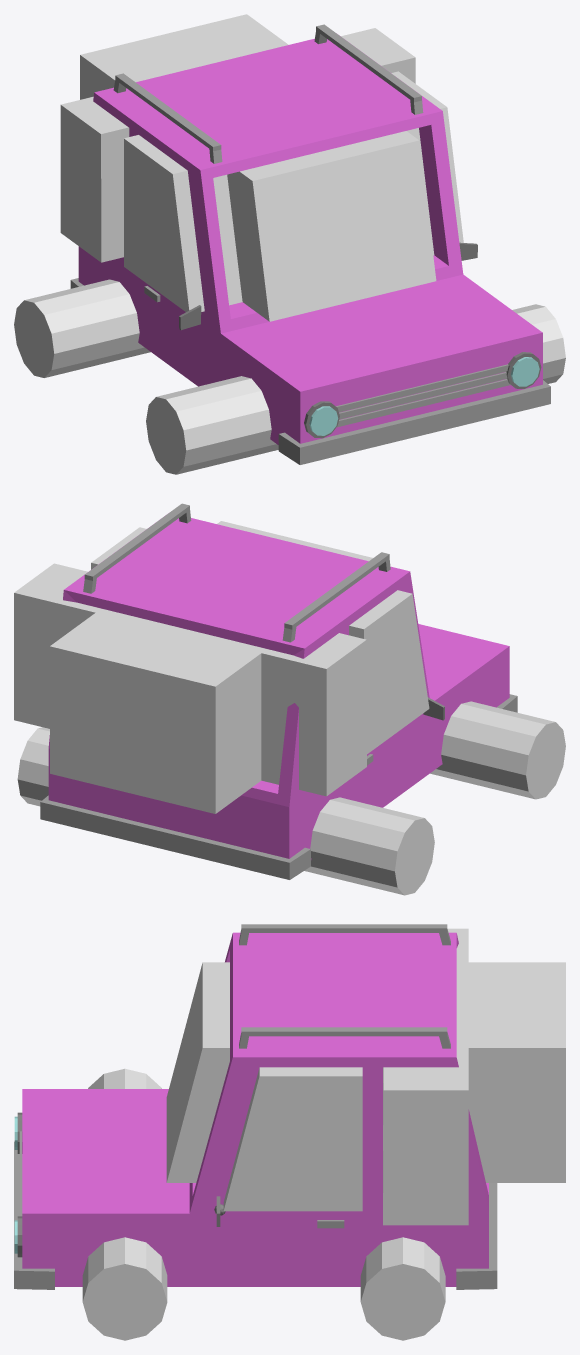
File: arabaaaaaaa.fbx
3 views of the same model, one above another, from view 1: azimuth 30°, elevation 25°; view 2: azimuth 150°, elevation 25°; view 3: azimuth 270°, elevation 25° (orthographic). The views are drawn at different scales.
Visible parts, largest first — view 1: Cube, Cube.001, Cylinder.004, Cylinder.005, Cube.004, Cube.005, Cube.007, Cylinder.003, Plane; view 2: Cube.001, Cube, Cylinder.005, Cylinder.004, Cube.004, Cube.007; view 3: Cube, Cube.001, Cylinder.004, Cylinder.005, Cube.007, Cube.004, Cylinder.003.
Boxes of the visible parts, <box> form: Cube: <box>78,35,542,444</box>; Cube.001: <box>60,14,463,321</box>; Cylinder.004: <box>146,304,565,474</box>; Cylinder.005: <box>14,279,150,377</box>; Cube.004: <box>70,278,550,464</box>; Cube.005: <box>336,364,510,427</box>; Cube.007: <box>113,24,423,163</box>; Cylinder.003: <box>304,352,541,438</box>; Plane: <box>179,242,477,330</box>; Cube.001: <box>14,521,429,813</box>; Cube: <box>48,515,509,859</box>; Cylinder.005: <box>17,727,434,895</box>; Cylinder.004: <box>430,701,565,799</box>; Cube.004: <box>40,694,517,879</box>; Cube.007: <box>83,503,390,642</box>; Cube: <box>22,932,488,1286</box>; Cube.001: <box>166,928,565,1225</box>; Cylinder.004: <box>82,1068,167,1340</box>; Cylinder.005: <box>360,1237,445,1340</box>; Cube.007: <box>239,924,450,1048</box>; Cube.004: <box>14,1141,497,1289</box>; Cylinder.003: <box>14,1112,22,1257</box>.
Size of the model in its own units: 396 by 259 by 473.
